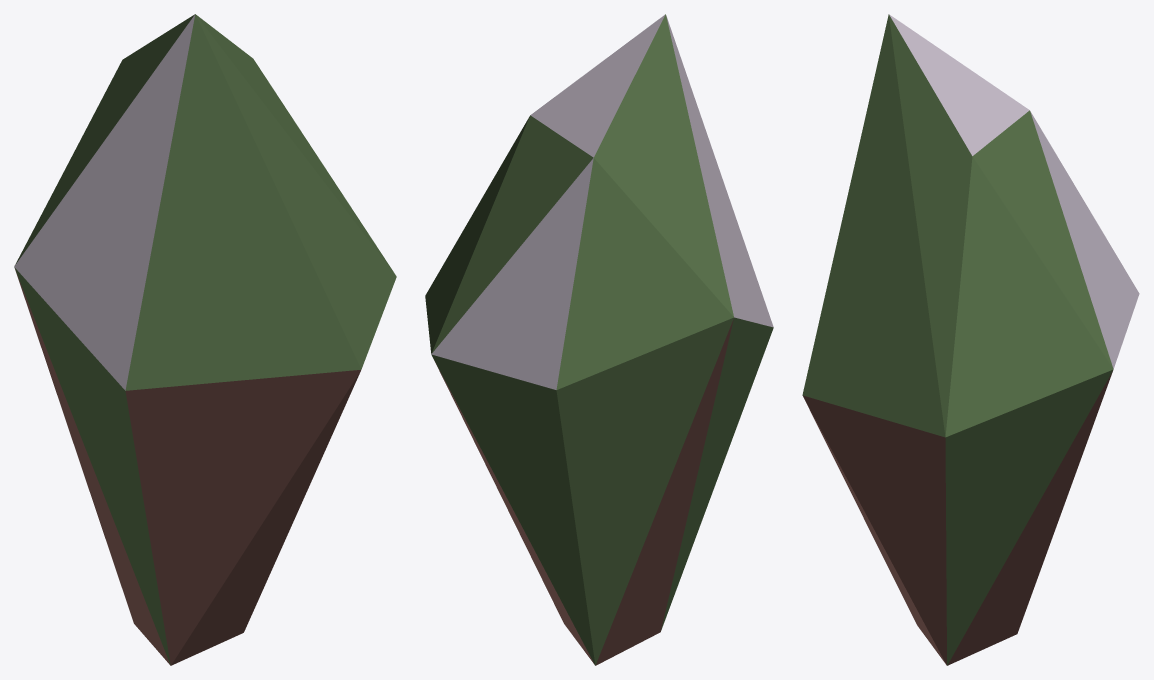
File: PineTree_Snow_5.lod4.glb
3 views of the same model, side by side, from view 1: azimuth 30°, elevation 25°; view 2: azimuth 150°, elevation 25°; view 3: azimuth 270°, elevation 25° (orthographic). The views are drawn at different scales.
Parts seen in each view (by area): view 1: PineTree_Snow_5; view 2: PineTree_Snow_5; view 3: PineTree_Snow_5.
Part boxes in pixels (bbox=[...]): PineTree_Snow_5: bbox=[14, 14, 396, 665]; PineTree_Snow_5: bbox=[425, 14, 773, 665]; PineTree_Snow_5: bbox=[802, 14, 1139, 665].
Size of the model in its own units: 1.54 by 2.71 by 1.34.
